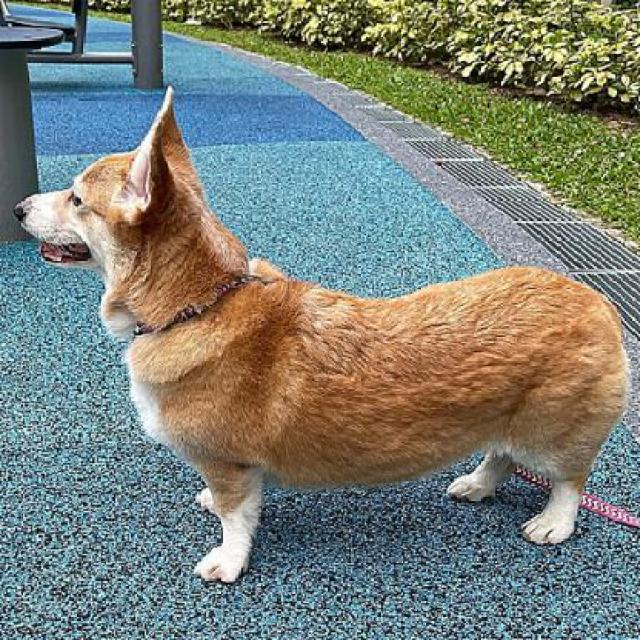Dog: (12, 88, 632, 594)
